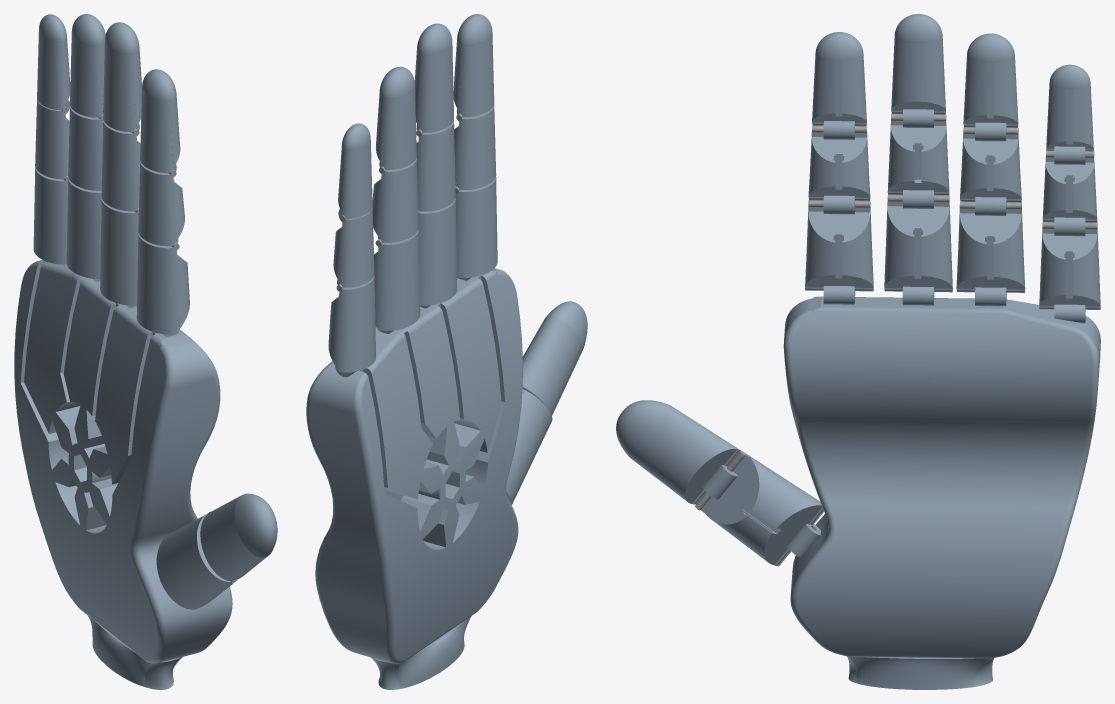
File: robot hand.glb
3 views of the same model, side by side, from view 1: azimuth 30°, elevation 25°; view 2: azimuth 150°, elevation 25°; view 3: azimuth 270°, elevation 25° (orthographic). The views are drawn at different scales.
Visible parts, largest first — view 1: Solid1 (×12), Solid2 (×3); view 2: Solid1 (×12), Solid2 (×3); view 3: Solid1 (×12), Solid2 (×3).
Boxes of the visible parts, <box> form: Solid1 (×12): <box>14,14,234,689</box>; Solid2 (×3): <box>66,178,277,581</box>; Solid1 (×12): <box>306,14,552,689</box>; Solid2 (×3): <box>374,177,587,415</box>; Solid1 (×12): <box>701,14,1100,689</box>; Solid2 (×3): <box>616,195,1025,504</box>.
Bounding box in the file's own units: 0.0307 × 0.2111 × 0.1408.
2 materials, 1 textured.
